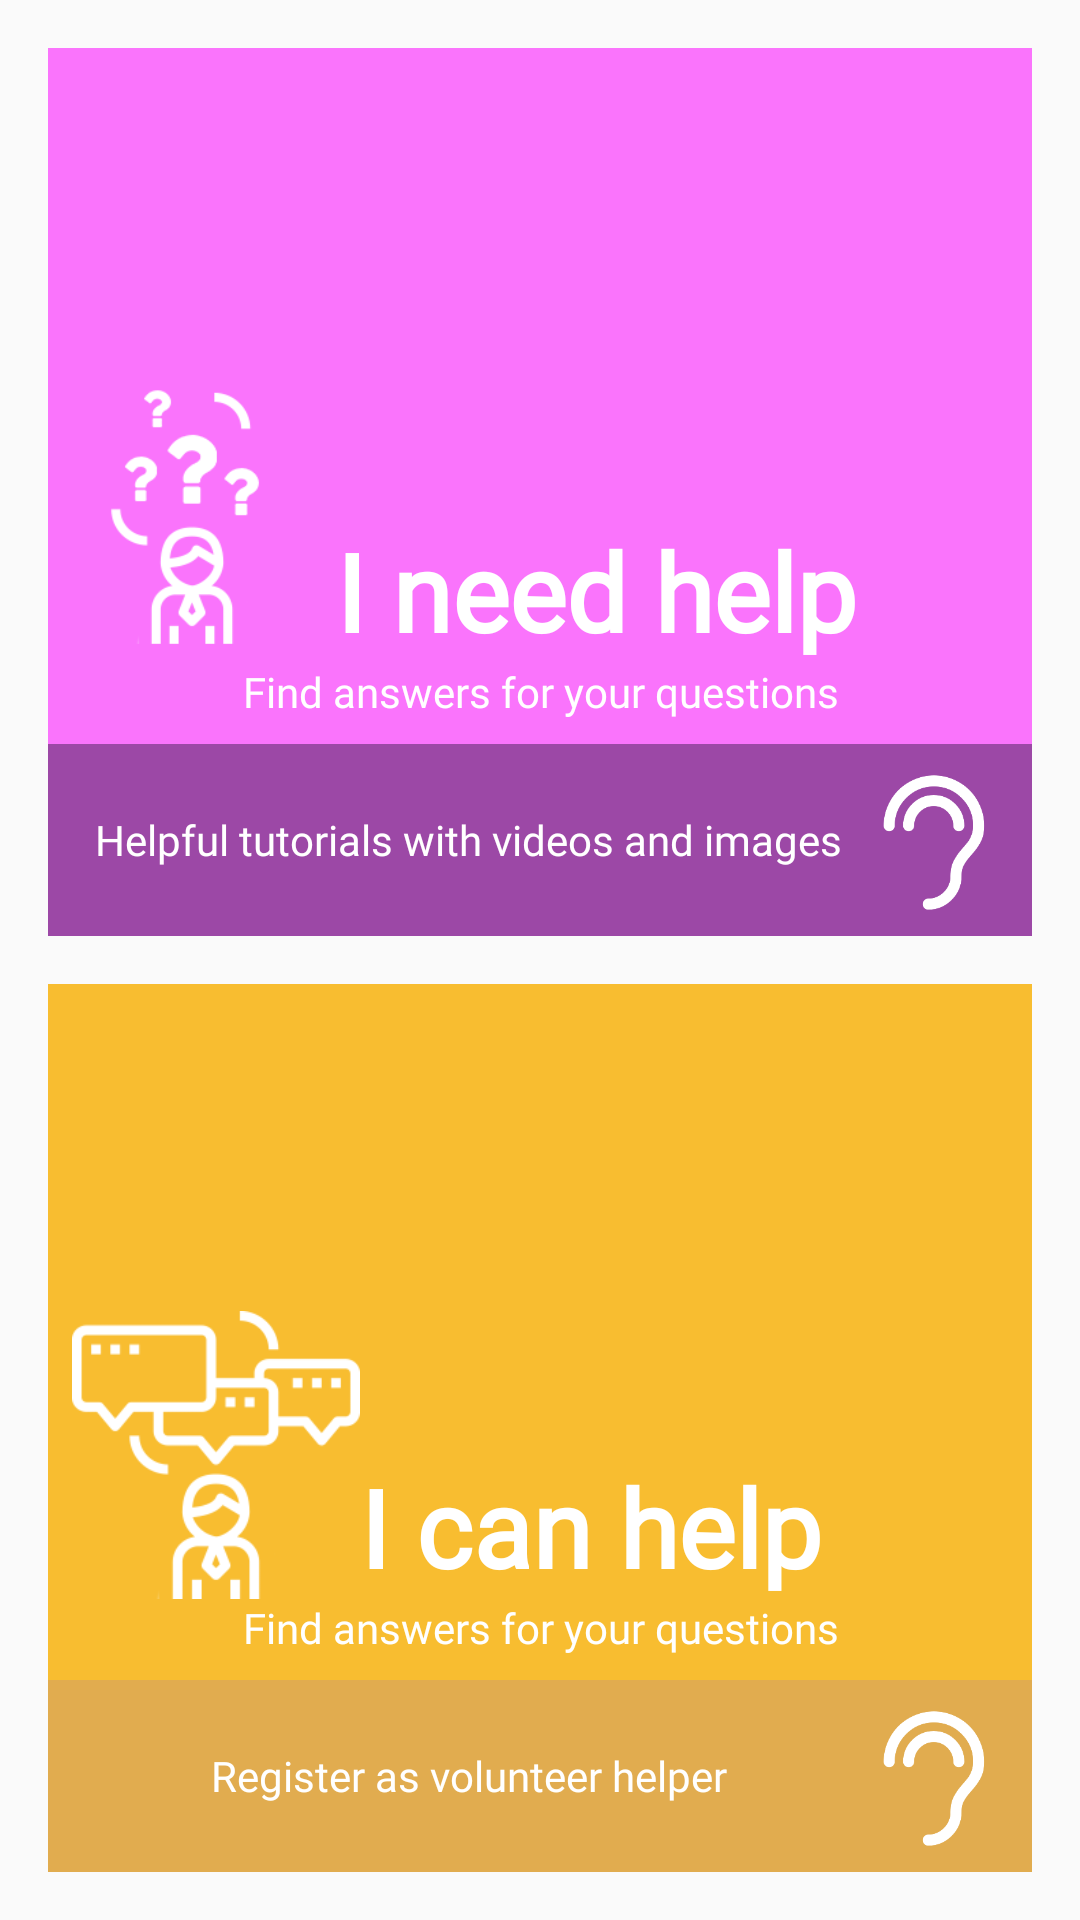

Icons on this 1080px×1920px Android screen, each with the point to tap as point (x, y):
ear: point (933, 842), point (933, 1778)
